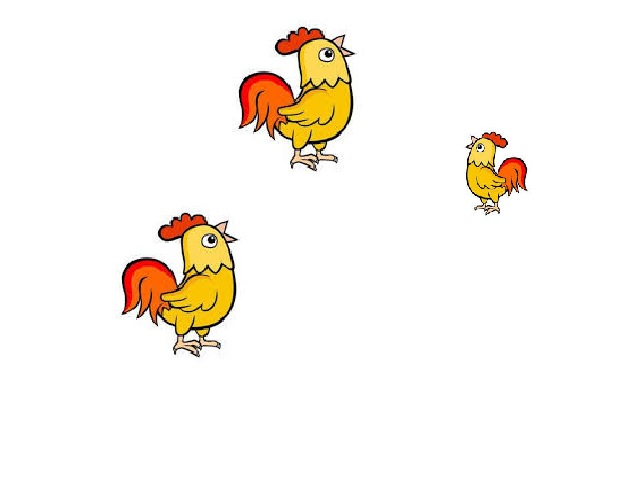crown: (155, 215, 207, 240), (275, 29, 320, 49), (488, 132, 512, 144)
eyes: (314, 46, 333, 63), (201, 233, 218, 247), (476, 143, 487, 153)
feet: (292, 150, 343, 170), (169, 337, 220, 352), (480, 197, 501, 217)
tail: (116, 264, 176, 323), (240, 72, 290, 135), (495, 157, 529, 195)
